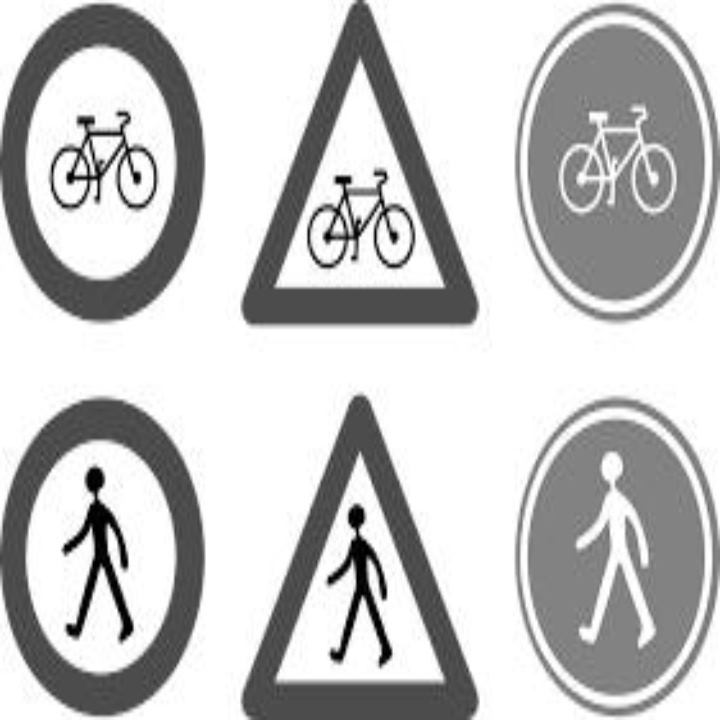bicycle: (541, 90, 685, 248), (297, 166, 438, 285), (51, 96, 172, 209)
